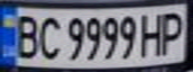9: (60, 12, 87, 62), (118, 11, 142, 60), (81, 14, 103, 62), (100, 12, 121, 61)
B: (6, 10, 42, 60)
C: (33, 12, 63, 61)
H: (136, 10, 169, 57)
P: (154, 7, 190, 56)
